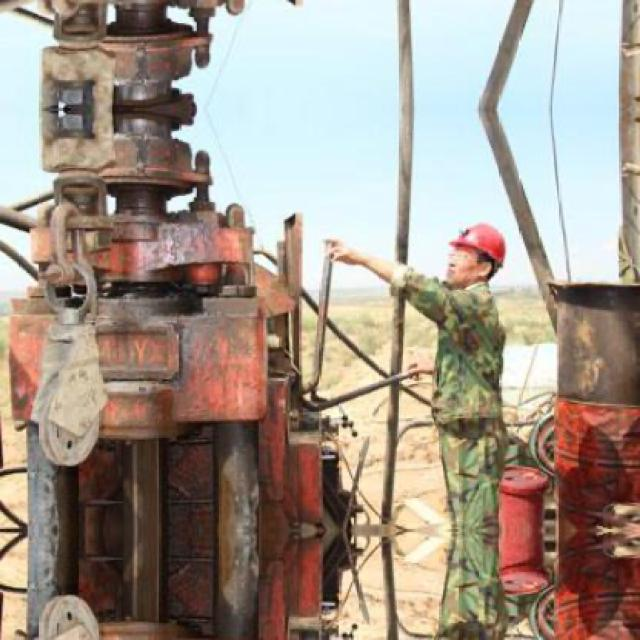con casco: (414, 211, 536, 305)
